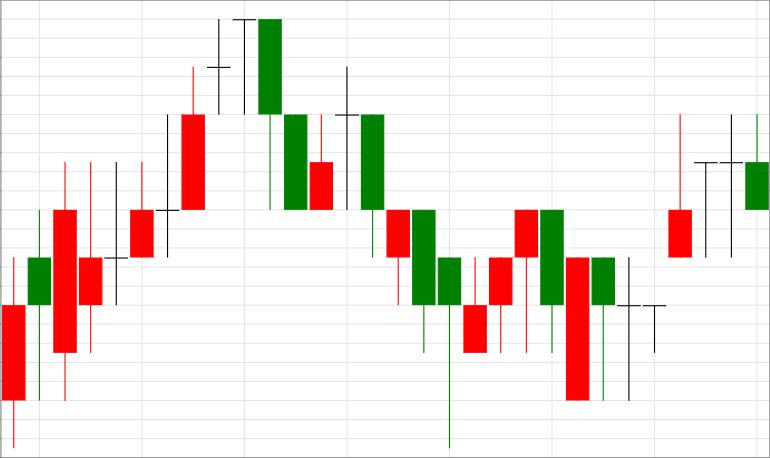three_white_soldiers_rise: (258, 19, 537, 447)
